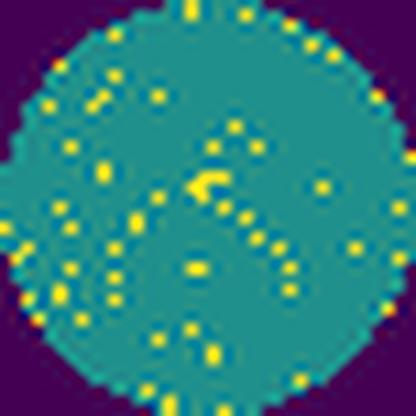Center: (182, 164, 234, 207)
